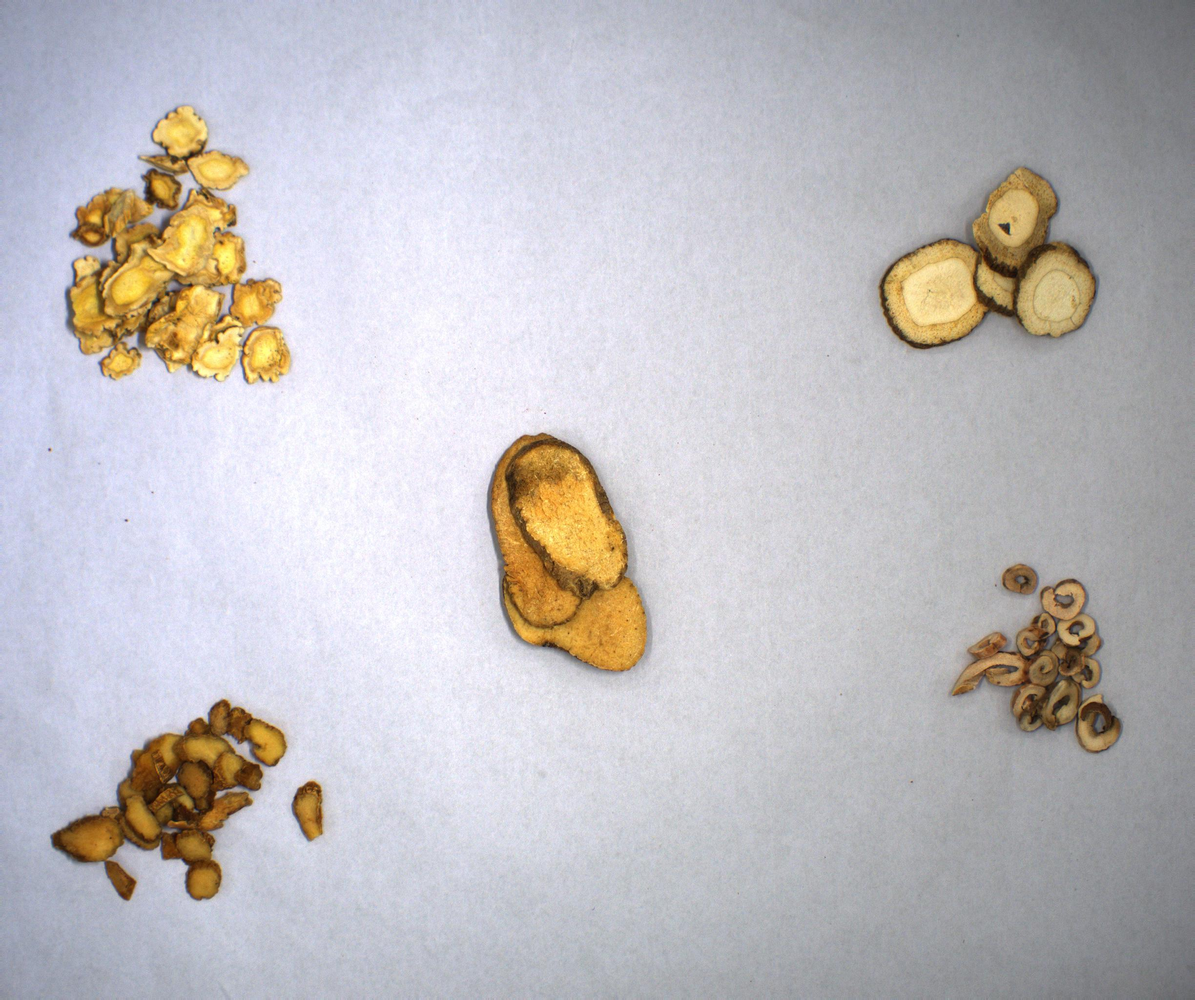baizhi: (867, 162, 1102, 351)
jiegeng: (57, 93, 298, 392)
mudanpi: (938, 556, 1132, 762)
yuzhu: (41, 693, 330, 906)
zexie: (483, 425, 658, 677)
